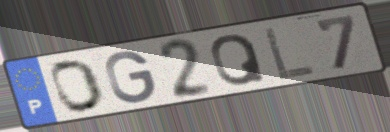2: (158, 35, 216, 105)
7: (313, 12, 360, 73)
G: (103, 49, 158, 106)
L: (261, 24, 319, 83)
O: (49, 57, 107, 114)
Q: (208, 33, 269, 88)
